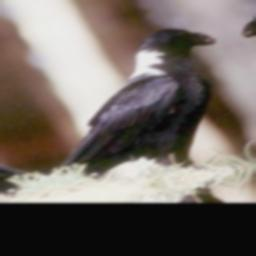Crow: (0, 16, 256, 194)
